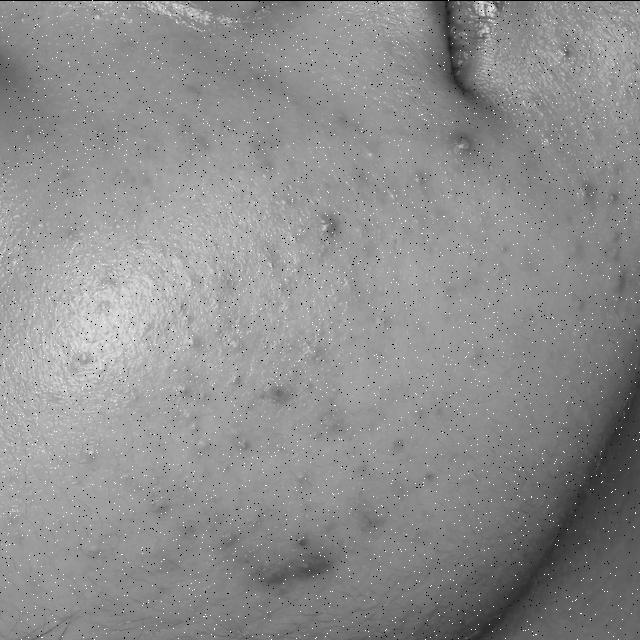nodules: (242, 551, 340, 593)
